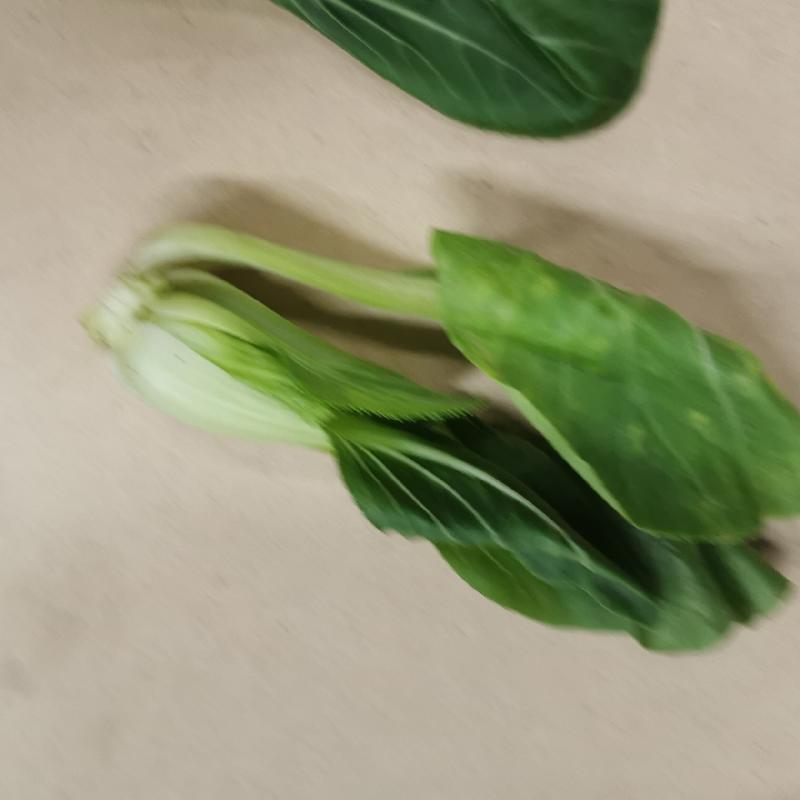green vegatable: (65, 214, 800, 662)
